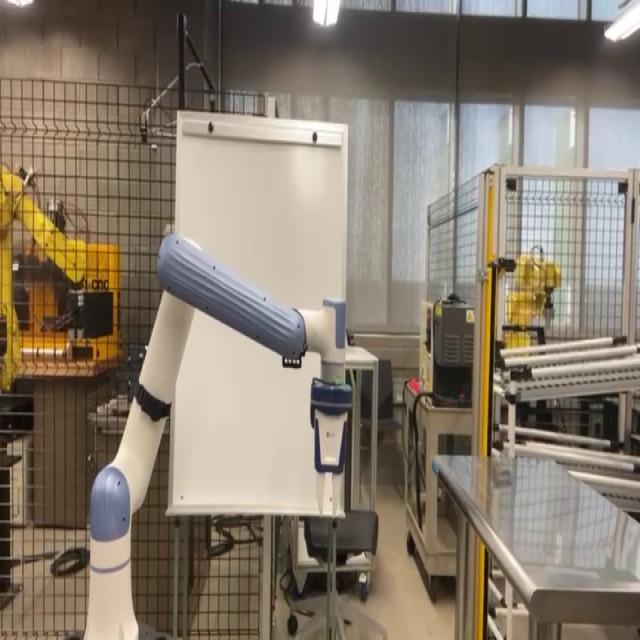robot: (71, 229, 361, 639)
